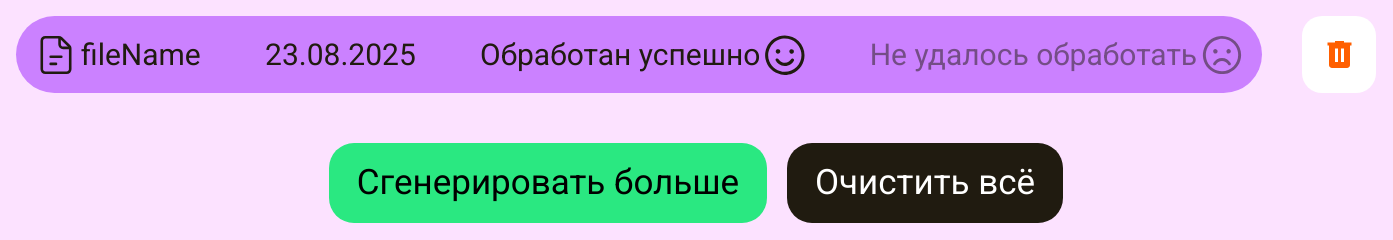
Test case: тестируем HistoryPage › при нажатии на иконку Корзины удаляеся элемент истории и не отображается в списке
This screenshot has width=1393, height=240.
Click the picture named "delete" at {"x": 1339, "y": 54}, box [1323,38,1356,71]
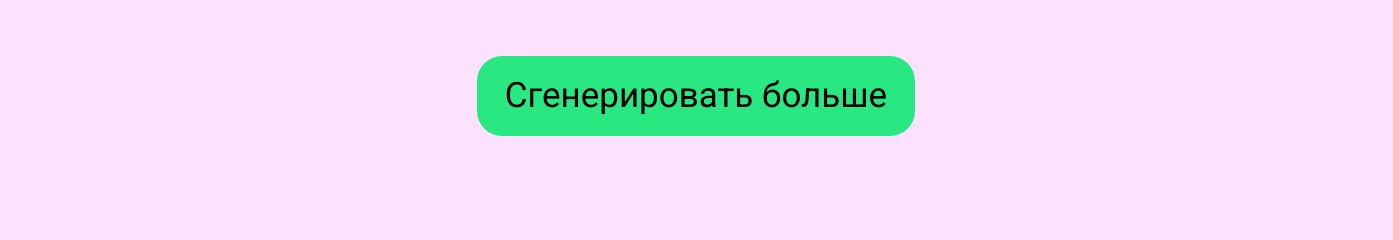
expect the text "fileName" is gone: met
